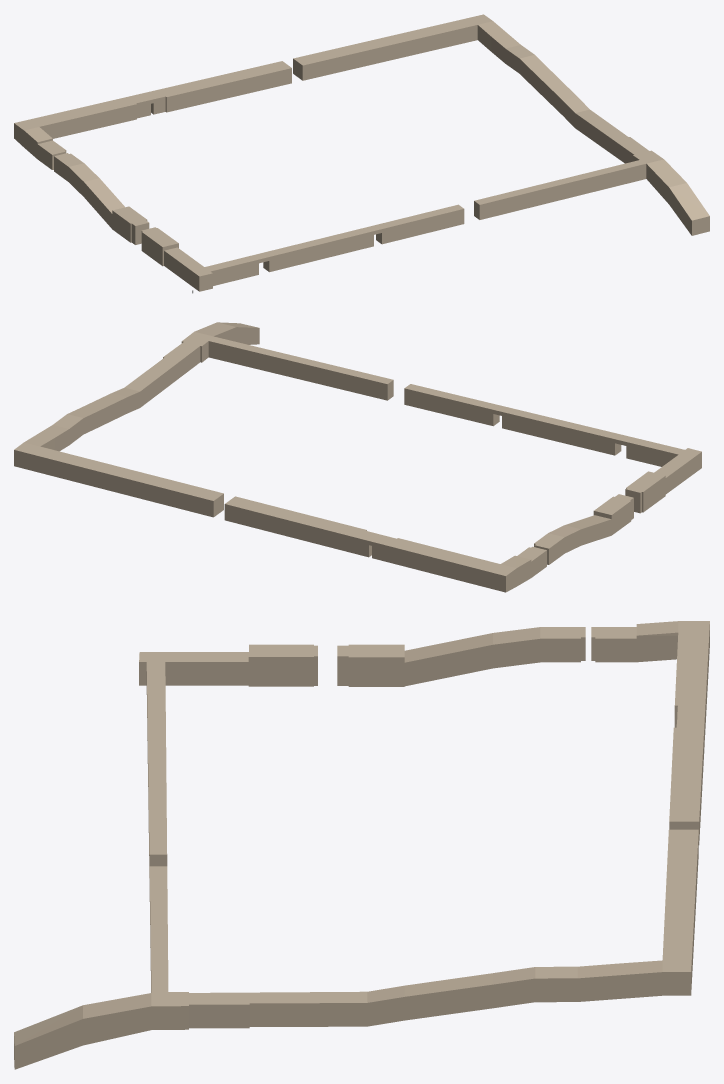
The model's file is Anubieion.glb.
3 renders of one model, top to bottom at view 1: azimuth 30°, elevation 25°; view 2: azimuth 150°, elevation 25°; view 3: azimuth 270°, elevation 25°, orthographic. The views are drawn at different scales.
Parts seen in each view (by area): view 1: Mesh1 Model, Mesh4 Model, Mesh2 Model, Mesh3 Model; view 2: Mesh1 Model, Mesh4 Model, Mesh2 Model, Mesh3 Model; view 3: Mesh1 Model, Mesh2 Model, Mesh4 Model, Mesh3 Model.
Part boxes in pixels (x1=…): Mesh1 Model: x1=293, y1=14, x2=709, y2=235; Mesh4 Model: x1=14, y1=61, x2=291, y2=169; Mesh2 Model: x1=141, y1=204, x2=464, y2=291; Mesh3 Model: x1=54, y1=153, x2=149, y2=244; Mesh1 Model: x1=14, y1=322, x2=393, y2=517; Mesh4 Model: x1=224, y1=496, x2=546, y2=592; Mesh2 Model: x1=404, y1=384, x2=701, y2=513; Mesh3 Model: x1=534, y1=494, x2=633, y2=564; Mesh1 Model: x1=14, y1=829, x2=698, y2=1069; Mesh2 Model: x1=139, y1=644, x2=317, y2=877; Mesh4 Model: x1=591, y1=621, x2=709, y2=844; Mesh3 Model: x1=337, y1=627, x2=585, y2=686.
Size of the model in its own units: 262 by 31 by 213.
